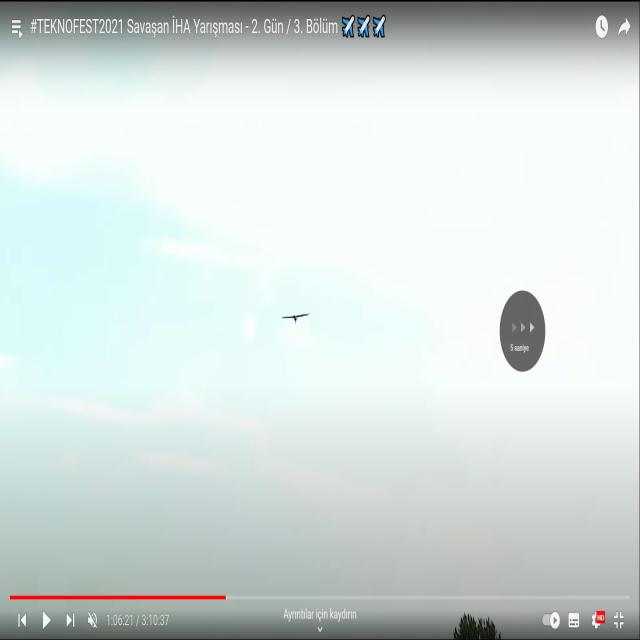iha: (280, 309, 310, 325)
